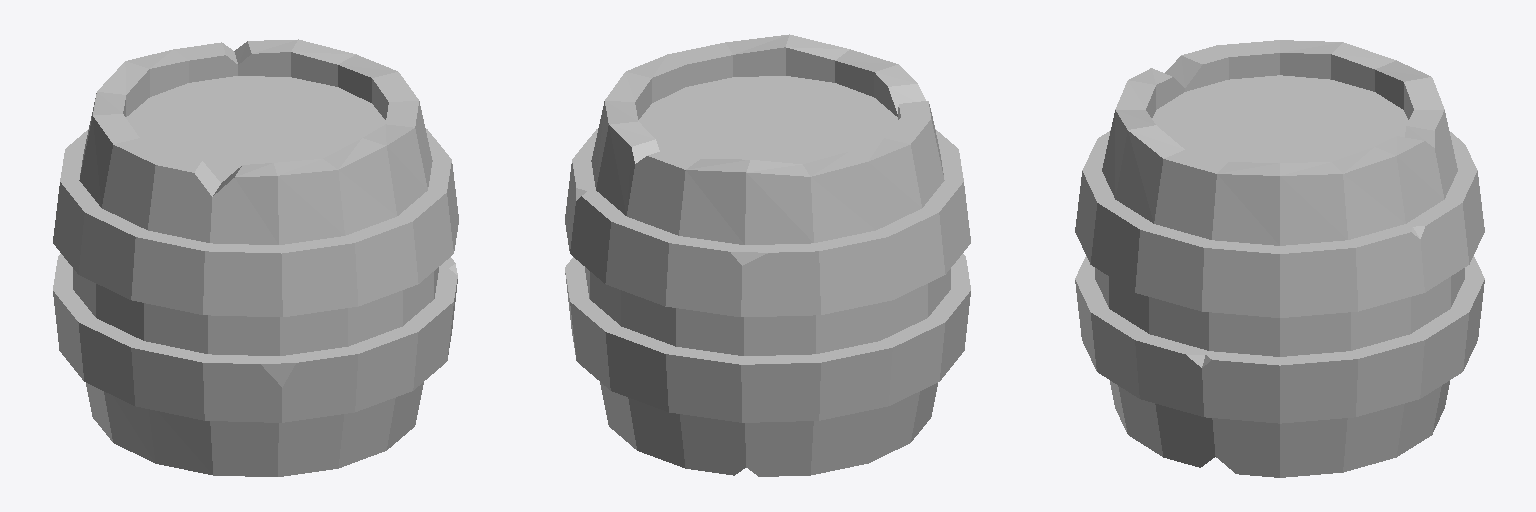
File: barrel_broken.obj
3 renders of one model, left to right at view 1: azimuth 30°, elevation 25°; view 2: azimuth 150°, elevation 25°; view 3: azimuth 270°, elevation 25°, orthographic.
Parts seen in each view (by area): view 1: Cylinder; view 2: Cylinder; view 3: Cylinder.
Part boxes in pixels (x1,y1,x2,y2): Cylinder: (53, 39, 458, 476); Cylinder: (565, 34, 970, 476); Cylinder: (1075, 40, 1484, 477).
Bounding box in the file's own units: 2.49 × 2.04 × 2.49.